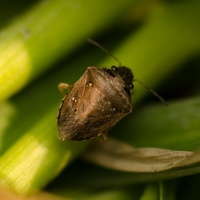insect: (57, 39, 136, 140)
